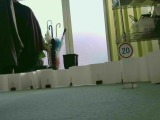speed_20: (117, 42, 134, 59)
